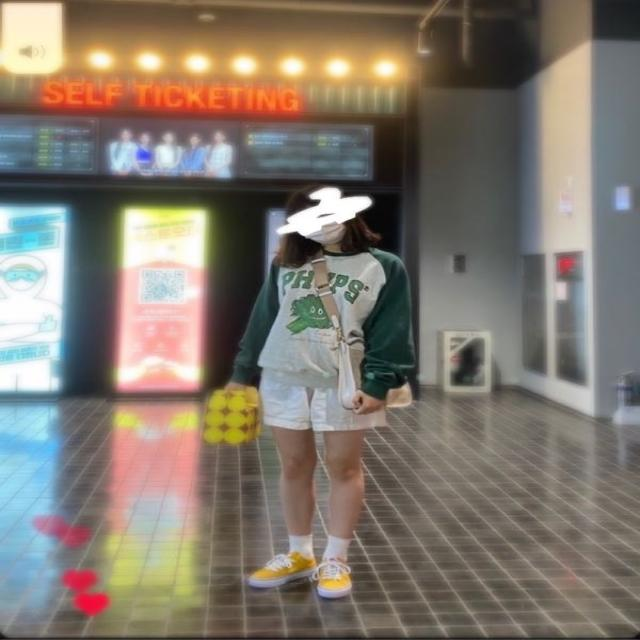mtm: (230, 243, 414, 401)
shortpants: (258, 367, 388, 433)
